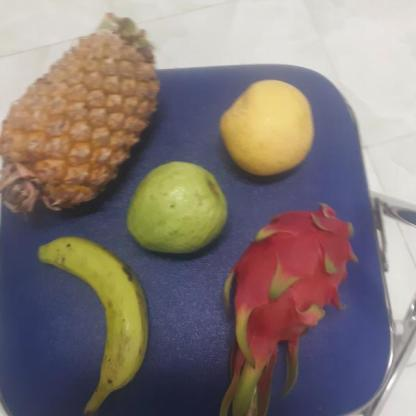banana: (40, 238, 150, 392)
guava: (123, 156, 231, 257)
pear: (218, 76, 320, 178)
pineapple: (0, 20, 156, 216)
pitaya: (224, 206, 362, 360)
